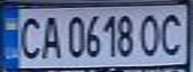0: (63, 11, 84, 58)
1: (100, 11, 118, 57)
6: (81, 11, 103, 58)
8: (115, 11, 139, 57)
A: (36, 12, 63, 60)
C: (12, 12, 45, 61), (157, 9, 187, 56)
O: (136, 10, 163, 57)
